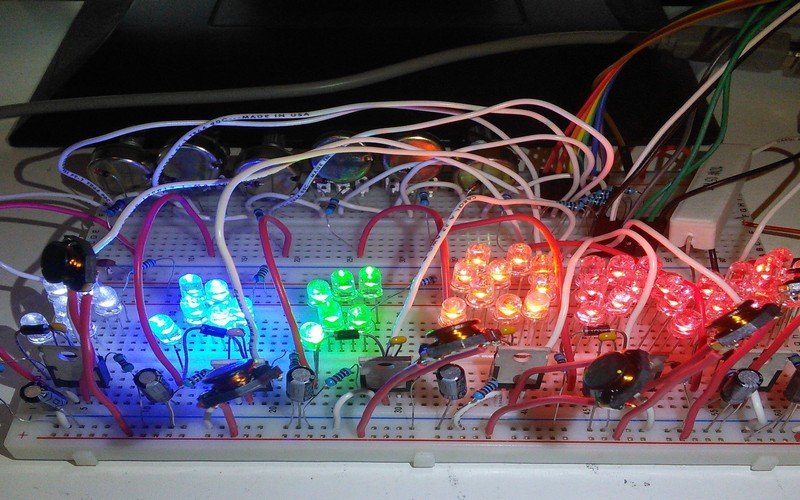Regulator: (0, 207, 799, 437)
